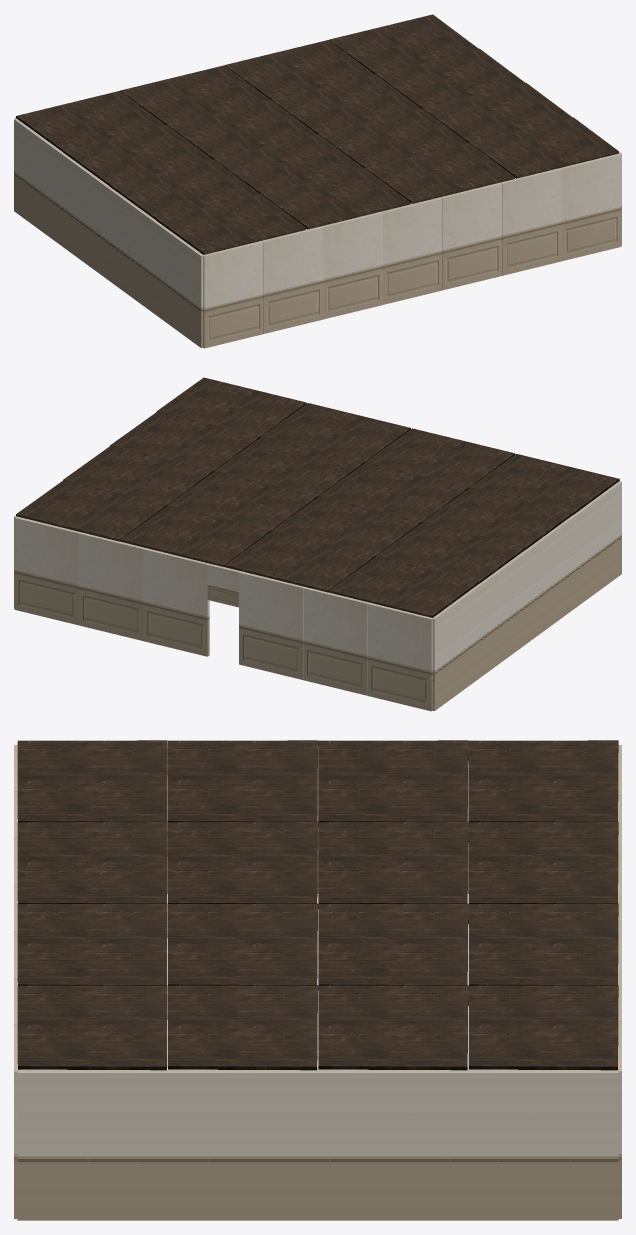
File: int-shell-domestic-wide-b.glb
The picture shows the model from 3 angles, top to bottom: view 1: azimuth 30°, elevation 25°; view 2: azimuth 150°, elevation 25°; view 3: azimuth 270°, elevation 25°; orthographic projection. The views are drawn at different scales.
Parts seen in each view (by area): view 1: ceiling_backing_00_00; view 2: ceiling_backing_00_00; view 3: ceiling_backing_00_00.
Boxes of the visible parts, <box> form: ceiling_backing_00_00: <box>14,14,621,348</box>; ceiling_backing_00_00: <box>14,377,621,711</box>; ceiling_backing_00_00: <box>14,740,621,1220</box>.
Bounding box in the file's own units: 18.16 × 3.91 × 14.16.
2 materials, 2 textured.
